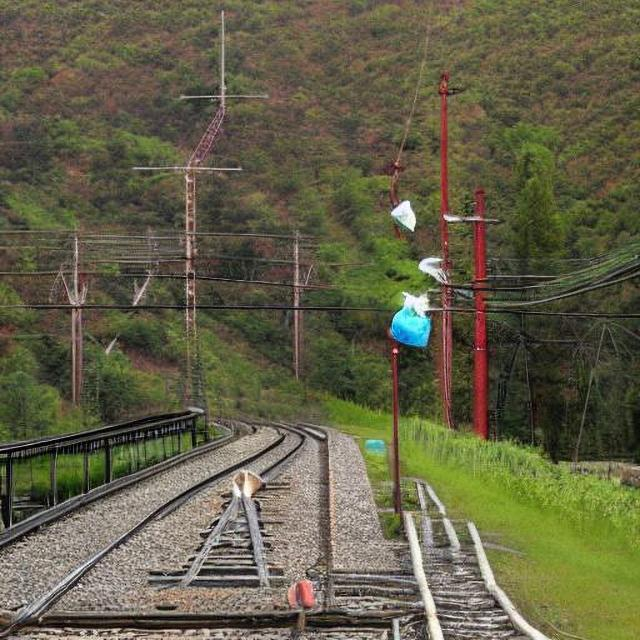floating object: (390, 291, 430, 347), (389, 195, 416, 232)
